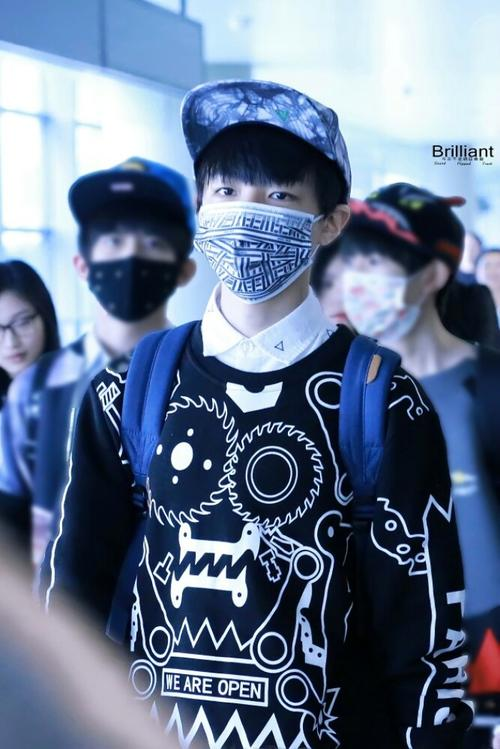yes_mask: (170, 78, 356, 308), (70, 153, 201, 326), (345, 177, 466, 343)
